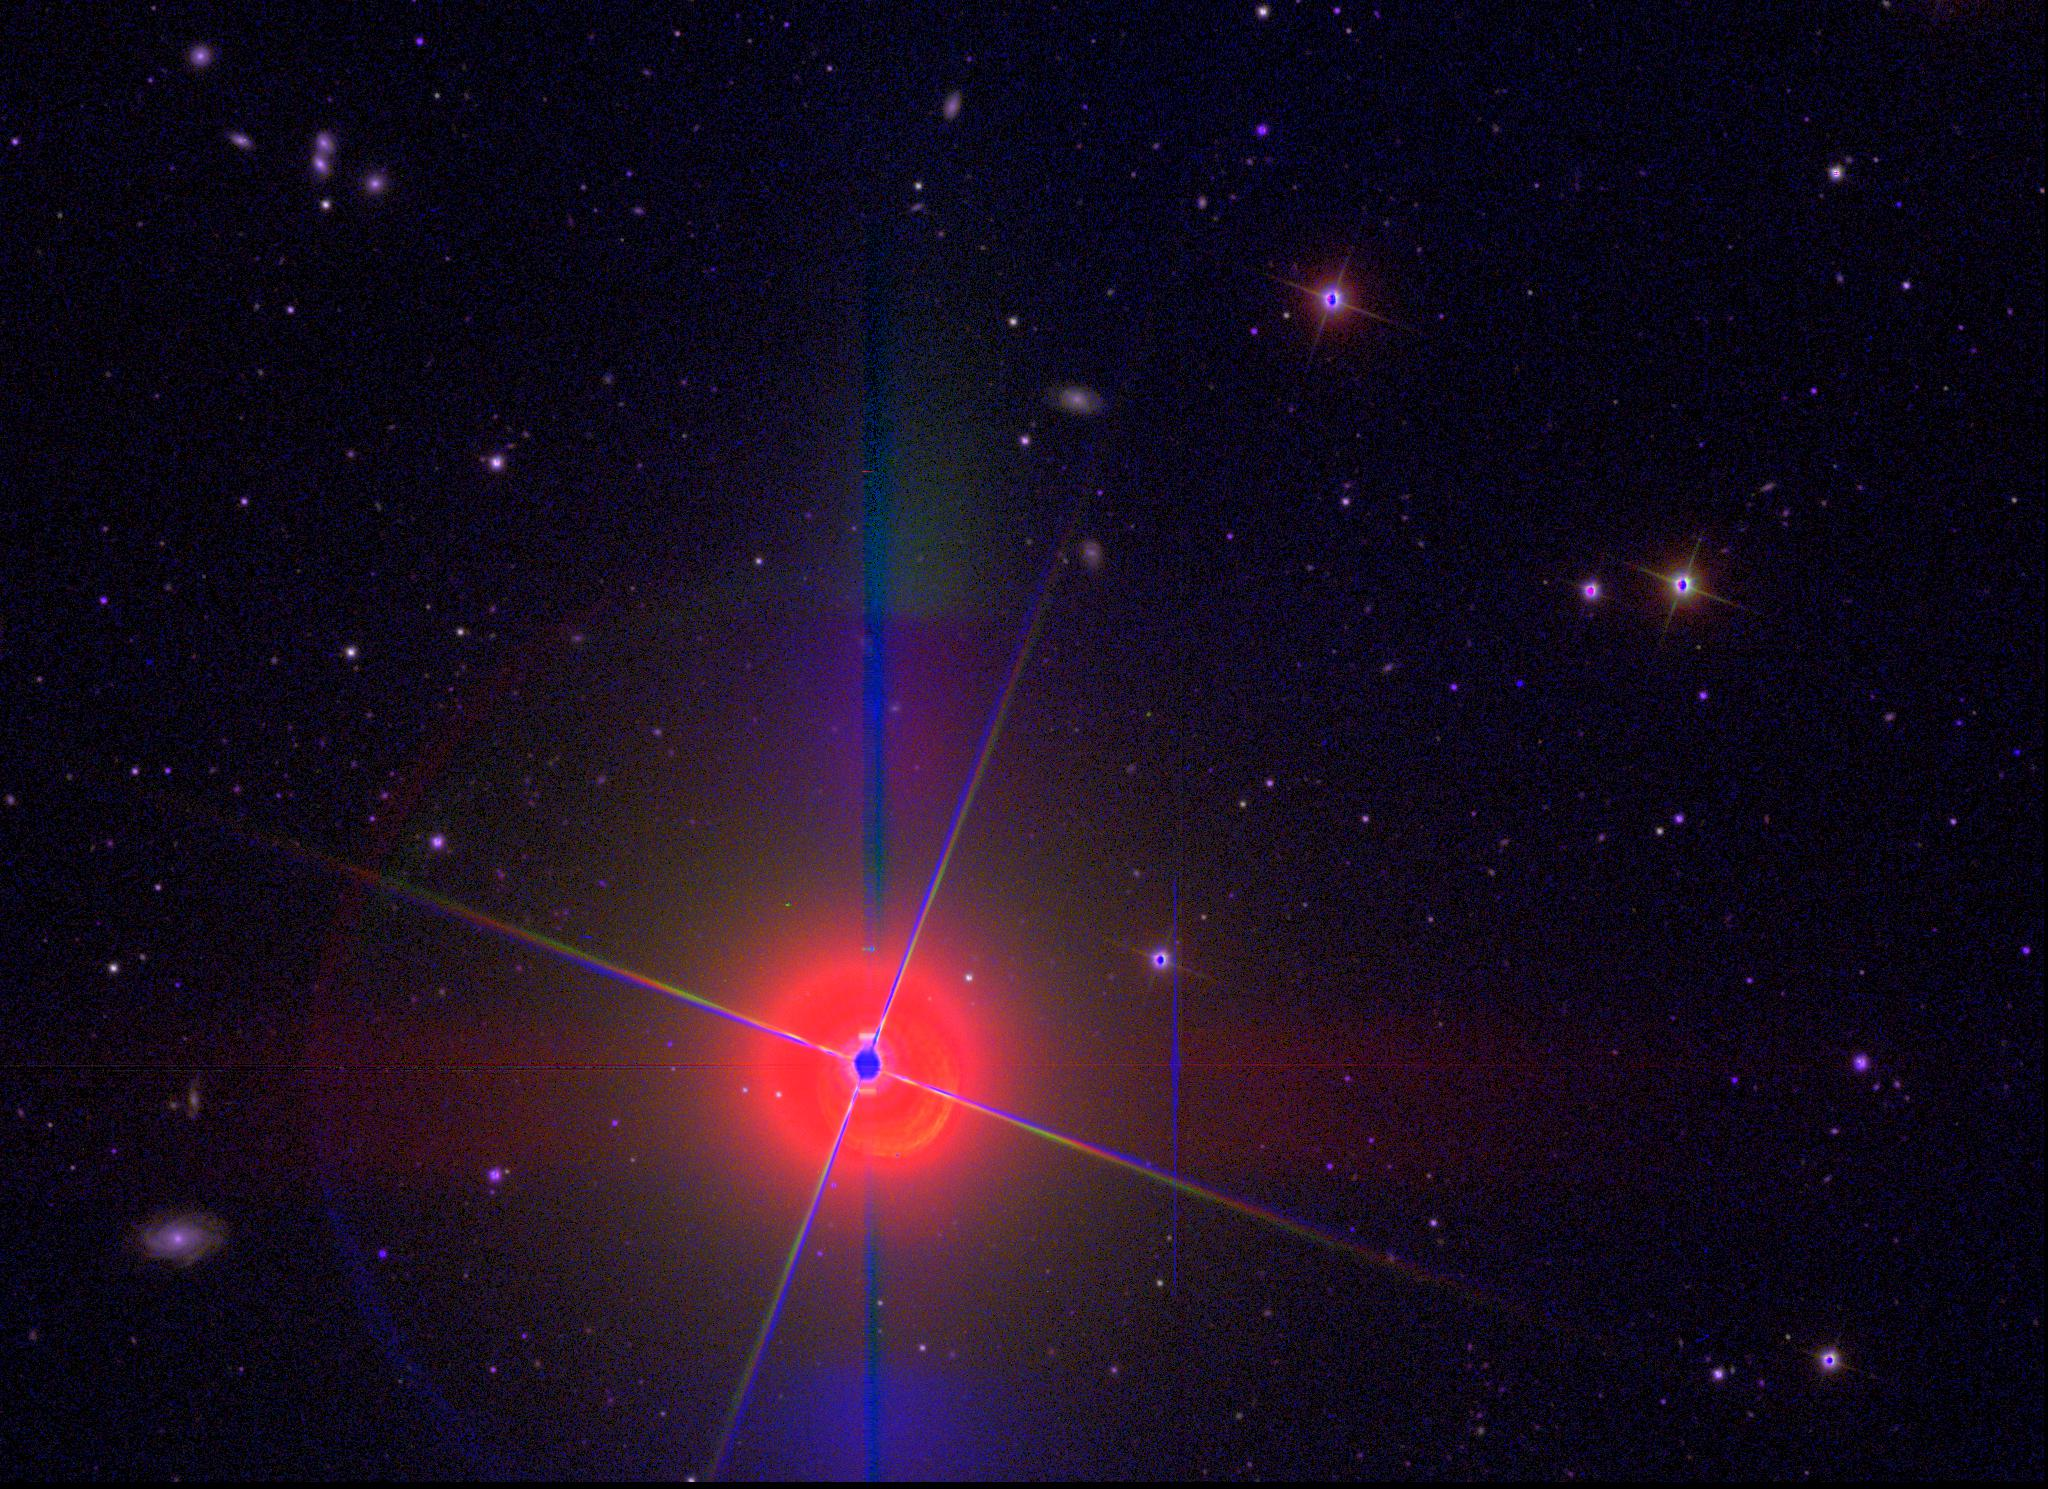L: (1514, 678, 1526, 690)
